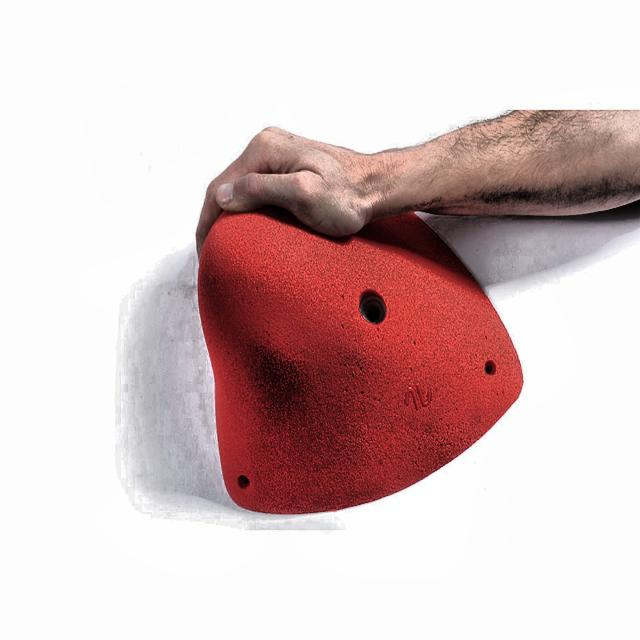Hold: (208, 165, 527, 508)
